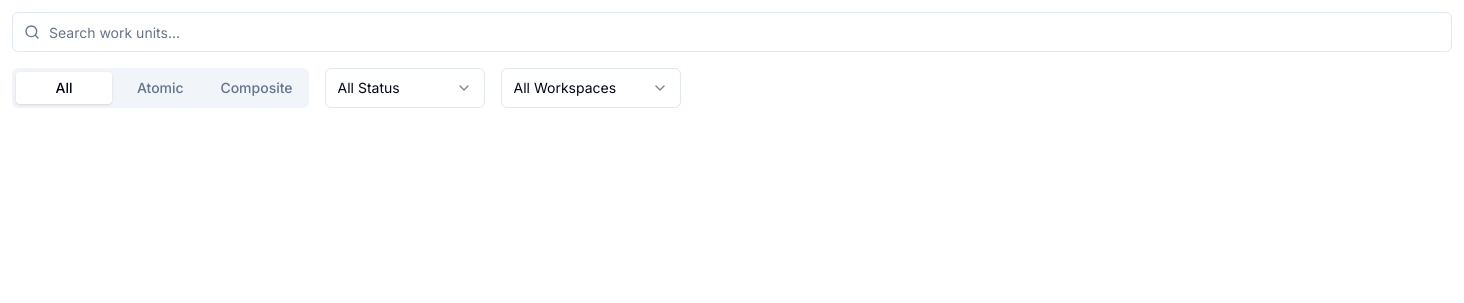
Test: WorkUnitFilters › trust status filter › should display all trust status options
Click the dropdown with test id "filter-trust-status" at [405, 88], box [325,68,485,108]
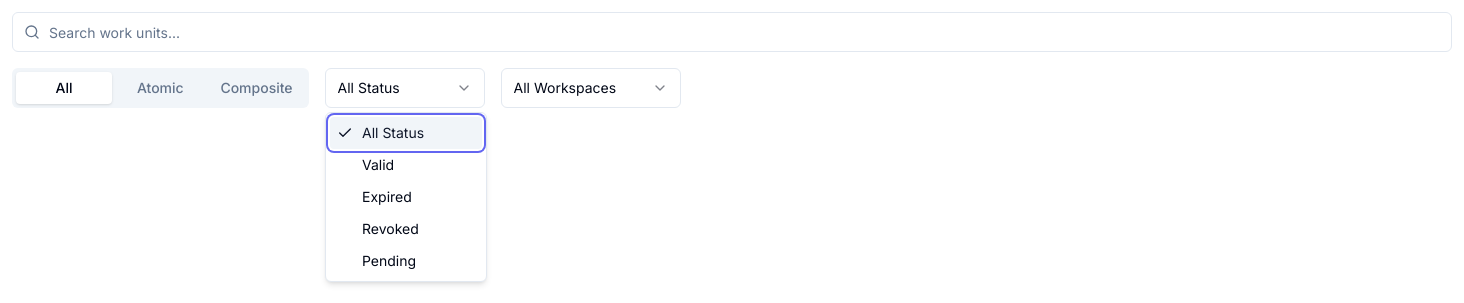
Result: the option "Valid" is shown at [362,156,394,173]
Result: the option "Expired" is shown at [362,188,412,205]
Result: the option "Revoked" is shown at [362,220,419,237]
